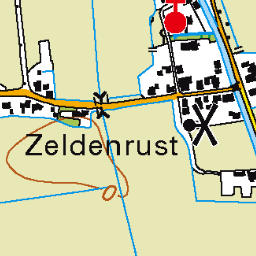church: (160, 1, 191, 36)
